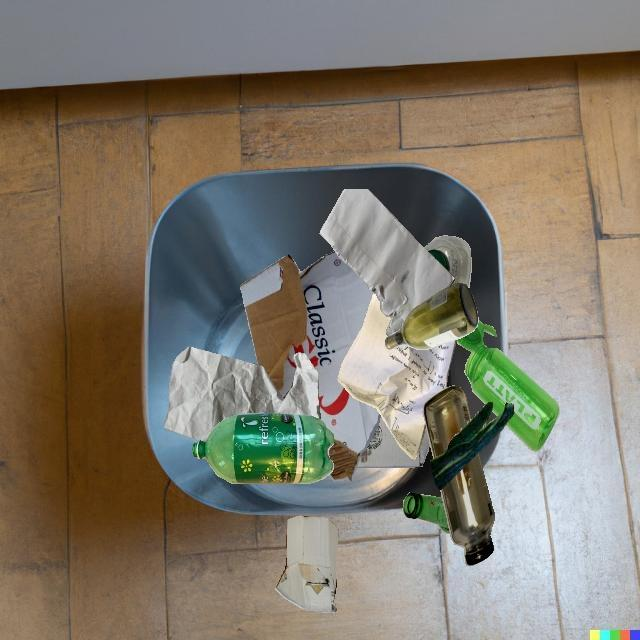biowaste: (430, 402, 514, 490)
cardboard: (240, 251, 381, 482), (275, 515, 339, 613), (356, 415, 430, 468)
glass: (385, 282, 478, 350), (440, 453, 494, 565), (423, 385, 471, 459), (402, 493, 450, 534)
paper: (320, 189, 455, 336), (337, 293, 456, 459), (164, 347, 321, 442)
plastic: (456, 319, 560, 452), (192, 413, 334, 484), (424, 235, 472, 288)
